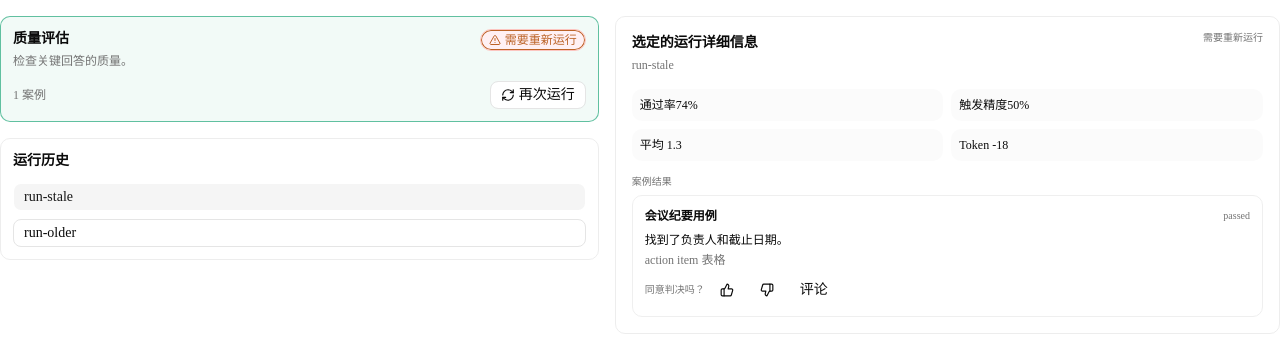
Test: SkillEvaluationTab › shows stale latest summary, run history, and selected run details
Expected: the text "需要重新运行" is shown 2 times, x1=480 y1=29 x2=586 y2=51; x1=1203 y1=33 x2=1263 y2=43
Expected: the heading "运行历史" is shown, x1=13 y1=153 x2=69 y2=168
Click the button with aria-label "查看运行run-older".
click(50, 232)  # box x1=13 y1=219 x2=586 y2=247
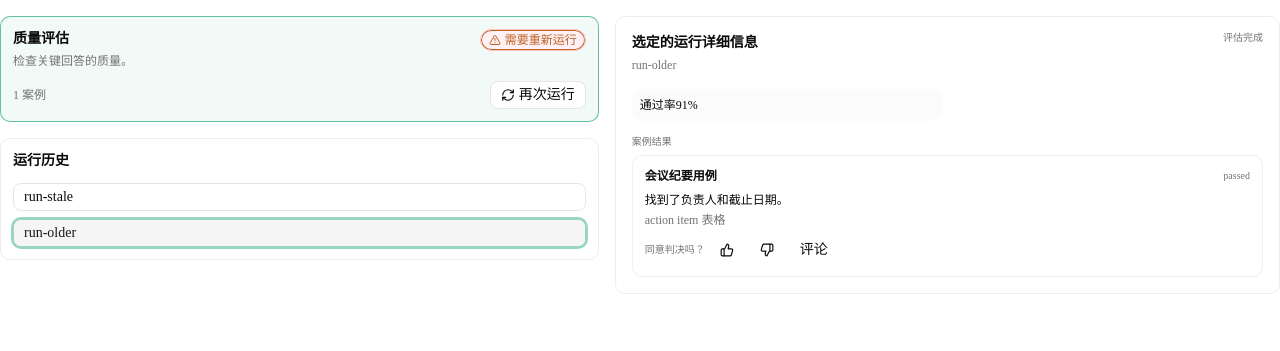
Expected: the text "通过率91%" is shown, x1=632 y1=89 x2=943 y2=121
